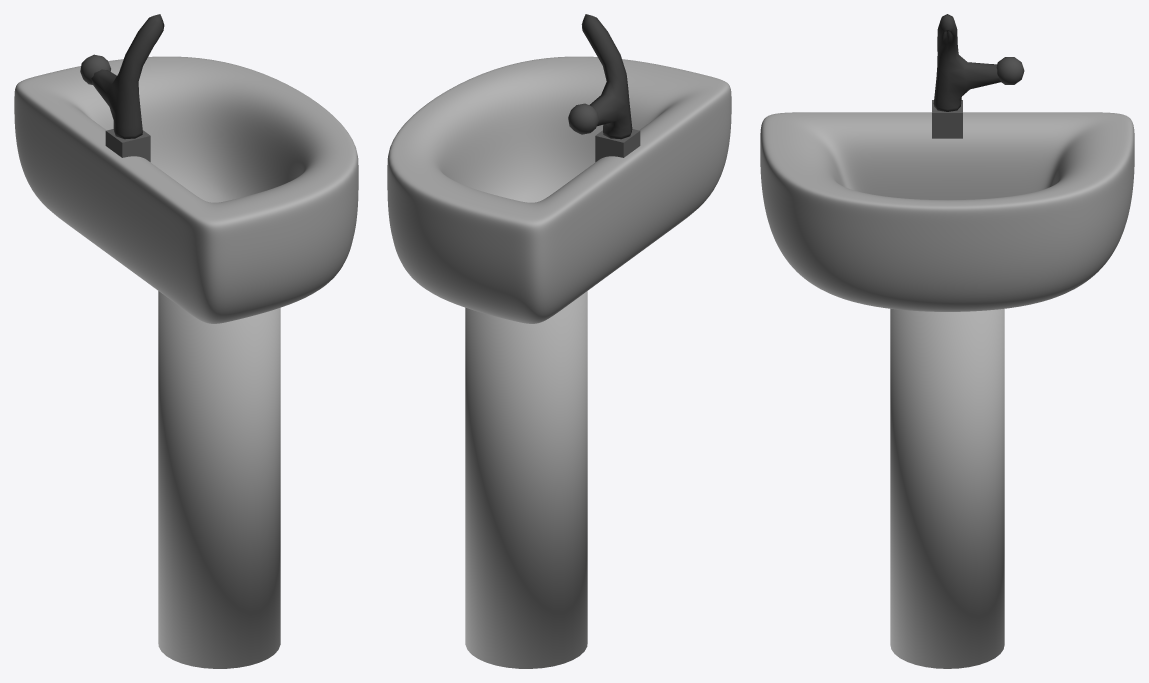
The model's file is Sink.fbx.
3 renders of one model, left to right at view 1: azimuth 30°, elevation 25°; view 2: azimuth 150°, elevation 25°; view 3: azimuth 270°, elevation 25°, orthographic. The views are drawn at different scales.
Parts seen in each view (by area): view 1: Sink; view 2: Sink; view 3: Sink.
Boxes of the visible parts, x1,y1,x2,y2 form: Sink: (14, 14, 358, 668); Sink: (387, 14, 731, 668); Sink: (760, 14, 1134, 668).
Size of the model in its own units: 340 by 973 by 550.
